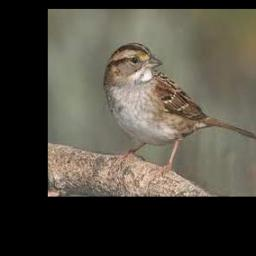Sparrow: (104, 43, 256, 177)
